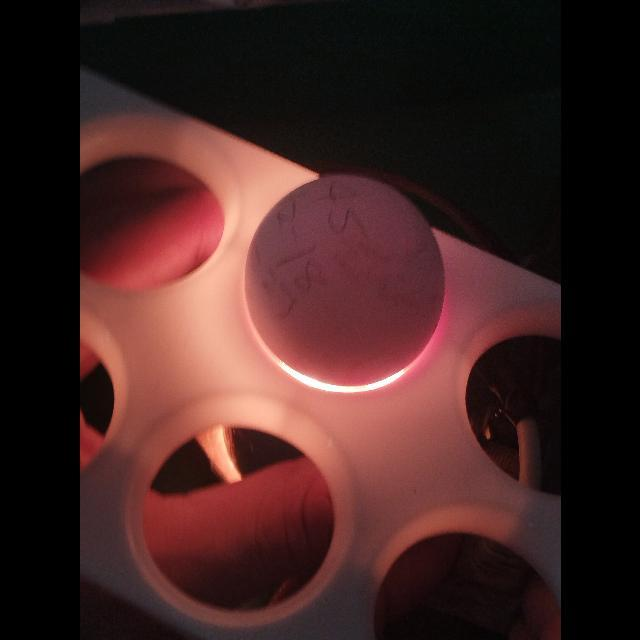Fertile: (240, 168, 448, 390)
